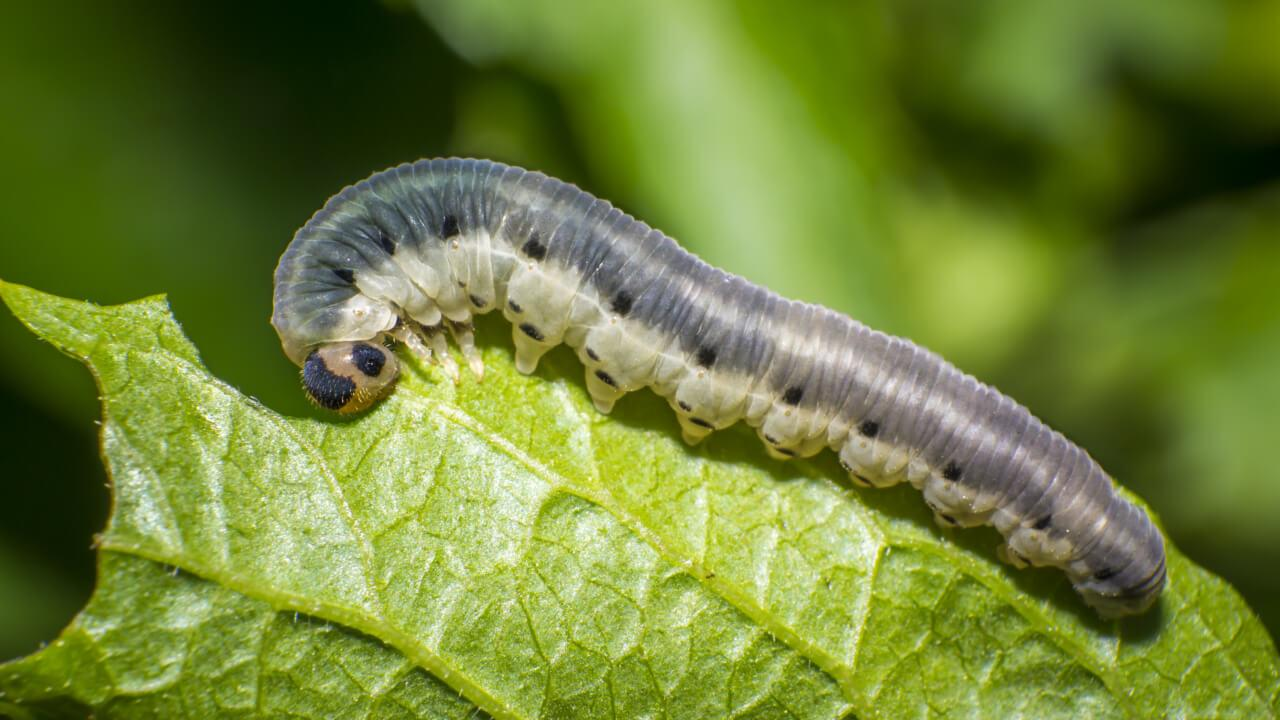caterpillars: (211, 86, 1245, 679)
